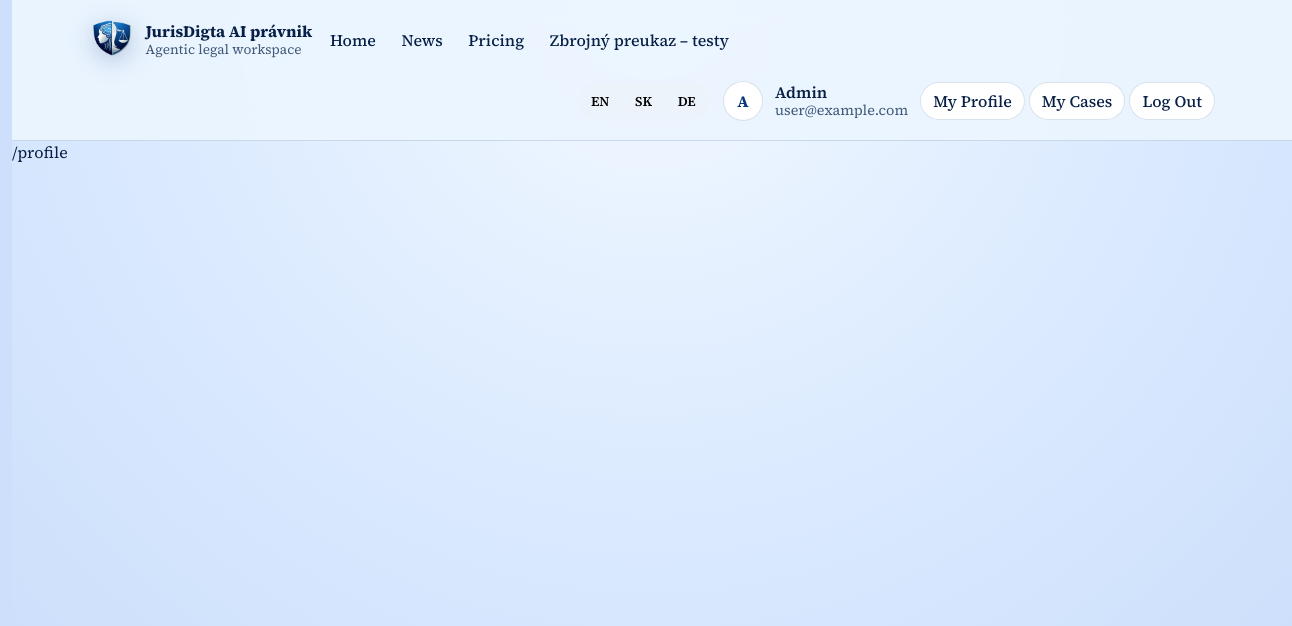
Test: Navigation profile actions › navigates to / when My Cases is clicked
Check: the text with test id "current-path" reads "/profile", box [12,141,68,163]
Click the button "My Cases" at (1077, 101), box [1029,82,1125,120]
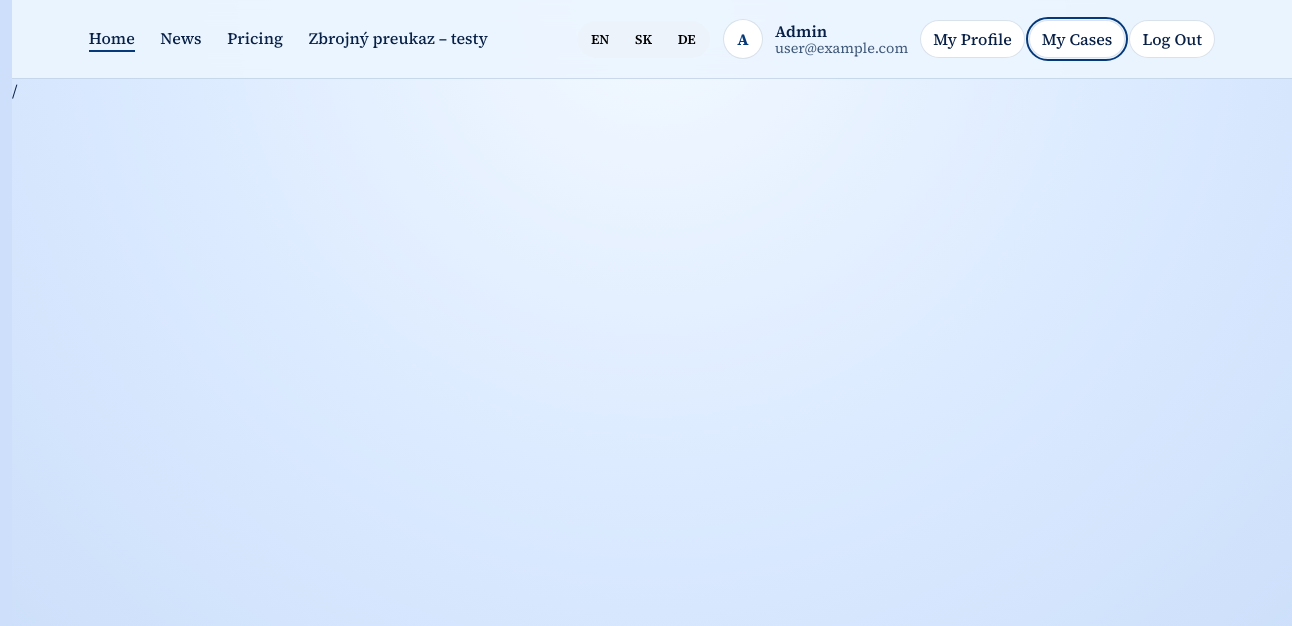
Check: the text with test id "current-path" reads "/", box [12,79,18,101]
